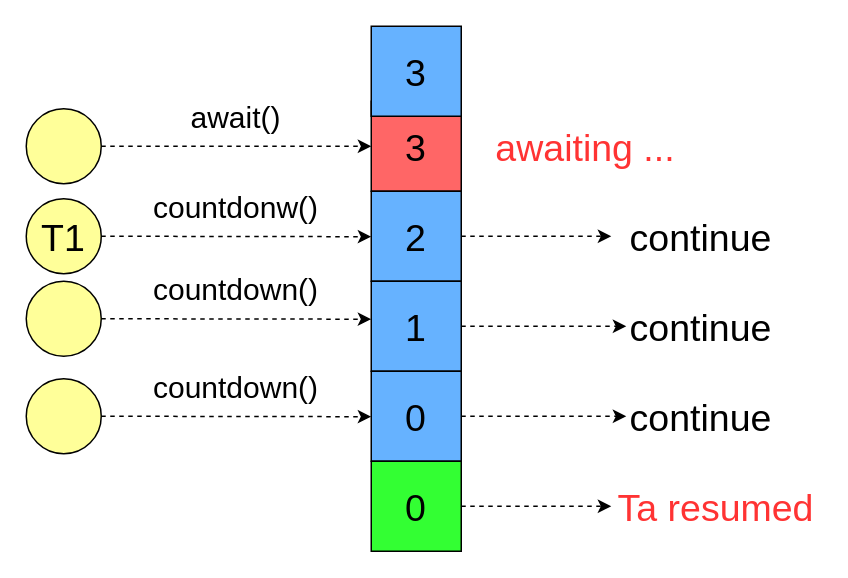
Some shapes in this 848 by 578 pixel diagram are drawn without their labels. The shapes that lost their labels are listed below. From the top down, each one's centre as x and y in pixels, then its label:
At [63,145]: "Ta".
At [63,318]: "T2".
At [63,415]: "T3".
